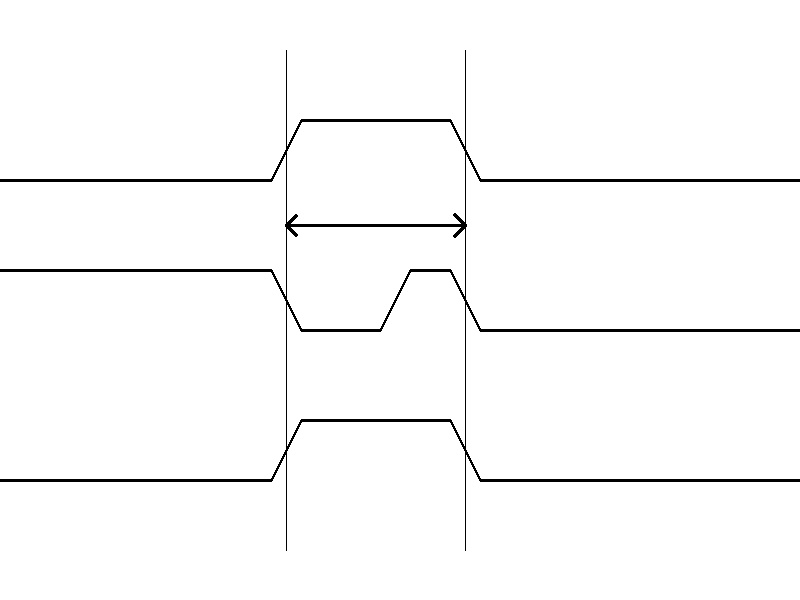double_arrow: (286, 210, 465, 240)
